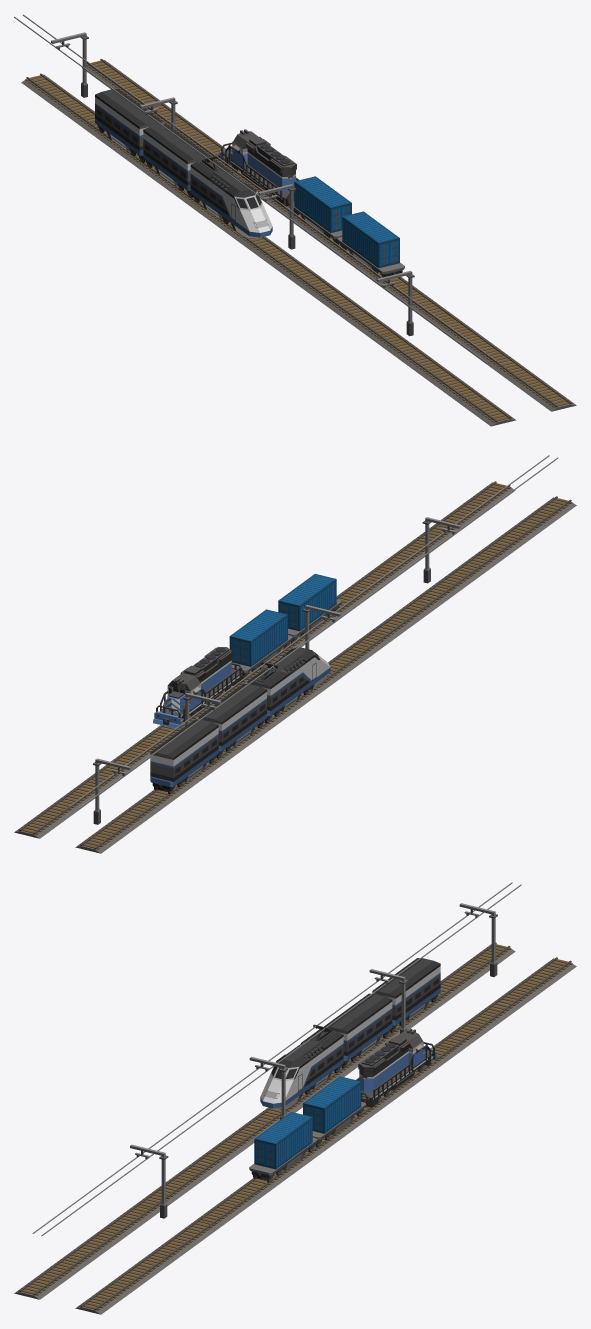
File: train-scene.glb
The picture shows the model from 3 angles, top to bottom: view 1: azimuth 30°, elevation 25°; view 2: azimuth 150°, elevation 25°; view 3: azimuth 330°, elevation 25°; orthographic projection.
Visible parts, largest first — view 1: SM_Veh_Bullet_03, SM_Veh_Freight_01, SM_Veh_Carriage_Container_02__1_, SM_Veh_Bullet_Carriage_03__1_, SM_Veh_Bullet_Carriage_03, SM_Veh_Carriage_Container_02, SM_Prop_Cable_Wires_01, SM_Env_Track_Straight_01__15_, SM_Env_Track_Straight_01__15__1, SM_Env_Track_Straight_01__8_, SM_Env_Track_Straight_01, SM_Env_Track_Straight_01__10_ (+18 smaller); view 2: SM_Veh_Freight_01, SM_Veh_Bullet_Carriage_03__1_, SM_Veh_Bullet_03, SM_Veh_Bullet_Carriage_03, SM_Veh_Carriage_Container_02, SM_Veh_Carriage_Container_02__1_, SM_Prop_Cable_Wires_01, SM_Env_Track_Straight_01, SM_Env_Track_Straight_01_1, SM_Env_Track_Straight_01__11_, SM_Env_Track_Straight_01__13_, SM_Env_Track_Straight_01__10_ (+17 smaller); view 3: SM_Veh_Bullet_03, SM_Veh_Freight_01, SM_Veh_Carriage_Container_02__1_, SM_Veh_Bullet_Carriage_03, SM_Veh_Carriage_Container_02, SM_Veh_Bullet_Carriage_03__1_, SM_Prop_Cable_Wires_01, SM_Env_Track_Straight_01__15__1, SM_Env_Track_Straight_01__15_, SM_Env_Track_Straight_01__12_, SM_Env_Track_Straight_01__13__1, SM_Env_Track_Straight_01_1 (+17 smaller).
Part boxes in pixels (x1,y1,x2,y2): SM_Veh_Bullet_03: (190,155,272,238); SM_Veh_Freight_01: (218,129,299,206); SM_Veh_Carriage_Container_02__1_: (337,211,404,277); SM_Veh_Bullet_Carriage_03__1_: (95,89,162,162); SM_Veh_Bullet_Carriage_03: (143,124,210,197); SM_Veh_Carriage_Container_02: (289,176,351,245); SM_Prop_Cable_Wires_01: (14,14,496,363); SM_Env_Track_Straight_01__15_: (462,396,515,426); SM_Env_Track_Straight_01__15__1: (522,381,576,411); SM_Env_Track_Straight_01__8_: (256,245,310,275); SM_Env_Track_Straight_01: (21,73,75,103); SM_Env_Track_Straight_01__10_: (315,288,369,319); SM_Veh_Freight_01: (153,647,242,728); SM_Veh_Bullet_Carriage_03__1_: (150,719,218,793); SM_Veh_Bullet_03: (247,647,330,723); SM_Veh_Bullet_Carriage_03: (198,683,266,758); SM_Veh_Carriage_Container_02: (229,609,292,679); SM_Veh_Carriage_Container_02__1_: (278,574,341,643); SM_Prop_Cable_Wires_01: (69,455,558,809); SM_Env_Track_Straight_01: (75,822,130,853); SM_Env_Track_Straight_01_1: (14,807,69,838); SM_Env_Track_Straight_01__11_: (494,518,546,548); SM_Env_Track_Straight_01__13_: (464,540,516,570); SM_Env_Track_Straight_01__10_: (375,604,428,635); SM_Veh_Bullet_03: (260,1024,343,1108); SM_Veh_Freight_01: (356,1028,437,1107); SM_Veh_Carriage_Container_02__1_: (249,1112,317,1182); SM_Veh_Bullet_Carriage_03: (324,993,392,1068); SM_Veh_Carriage_Container_02: (303,1076,366,1146); SM_Veh_Bullet_Carriage_03__1_: (372,958,440,1032); SM_Prop_Cable_Wires_01: (32,882,521,1235); SM_Env_Track_Straight_01__15__1: (75,1283,130,1314); SM_Env_Track_Straight_01__15_: (14,1269,69,1299); SM_Env_Track_Straight_01__12_: (195,1138,247,1169); SM_Env_Track_Straight_01__13__1: (138,1240,190,1270); SM_Env_Track_Straight_01_1: (521,957,576,987).
Size of the model in its own units: 16.95 by 11.76 by 164.
Materials: 2 (2 with a texture image).
